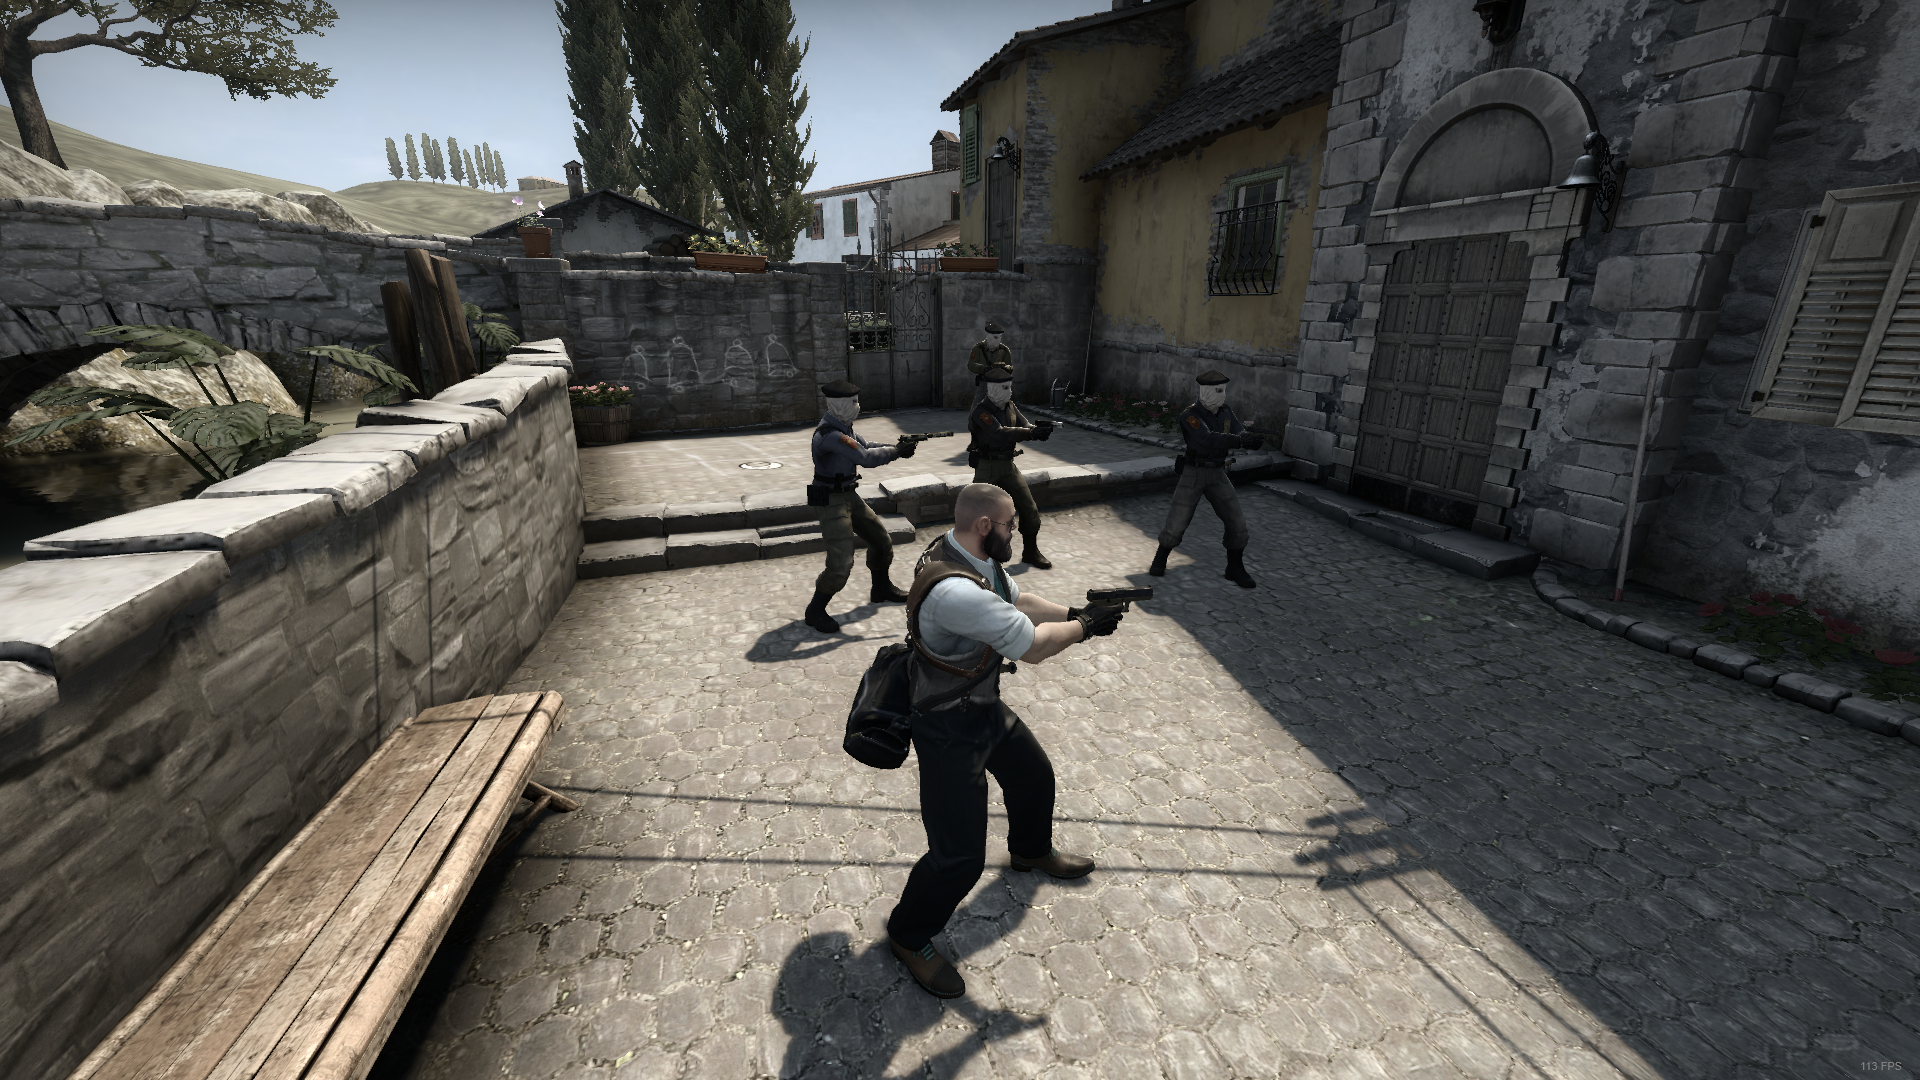t: (779, 371, 903, 636), (1139, 353, 1270, 585)
